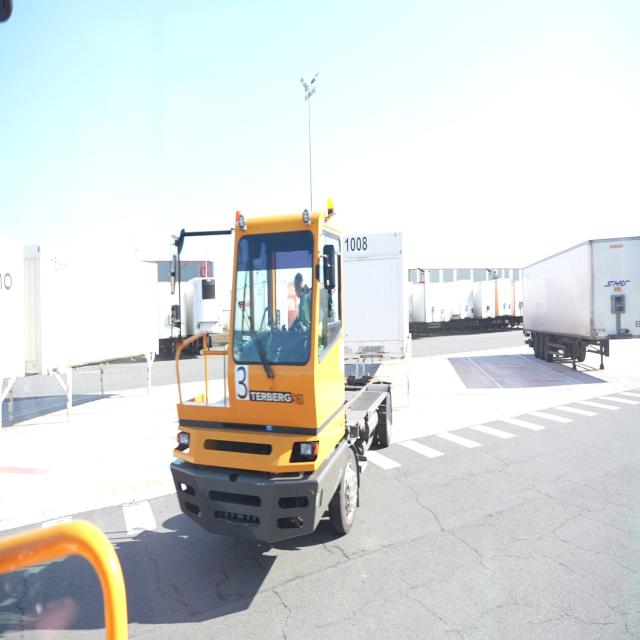Code: (342, 229, 368, 254)
